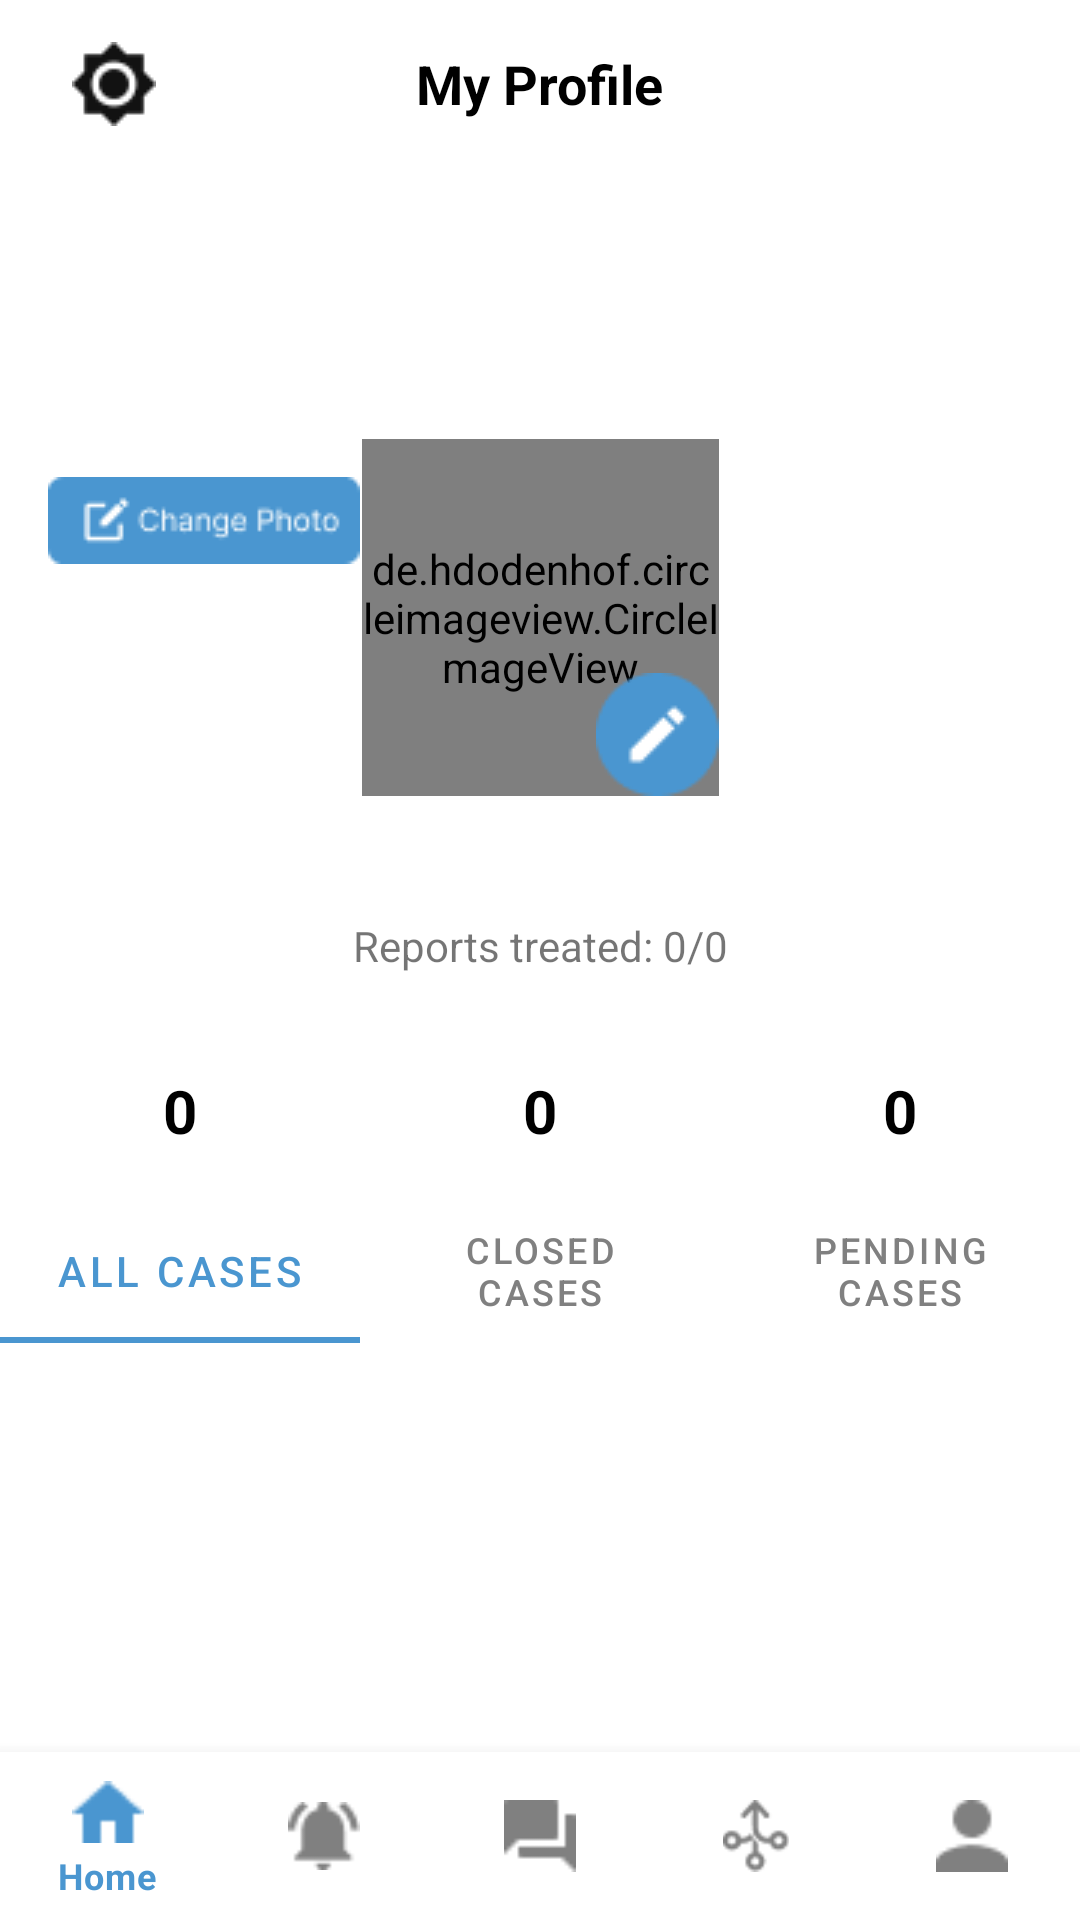

Icons on this 1080w x 1920h Android screen, each with the point to tap as (x=x, y=y):
settings: (x=114, y=84)
